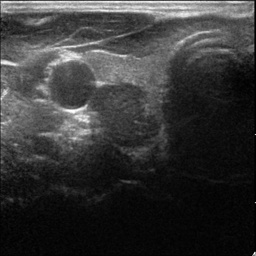mass: (93, 84, 161, 144)
